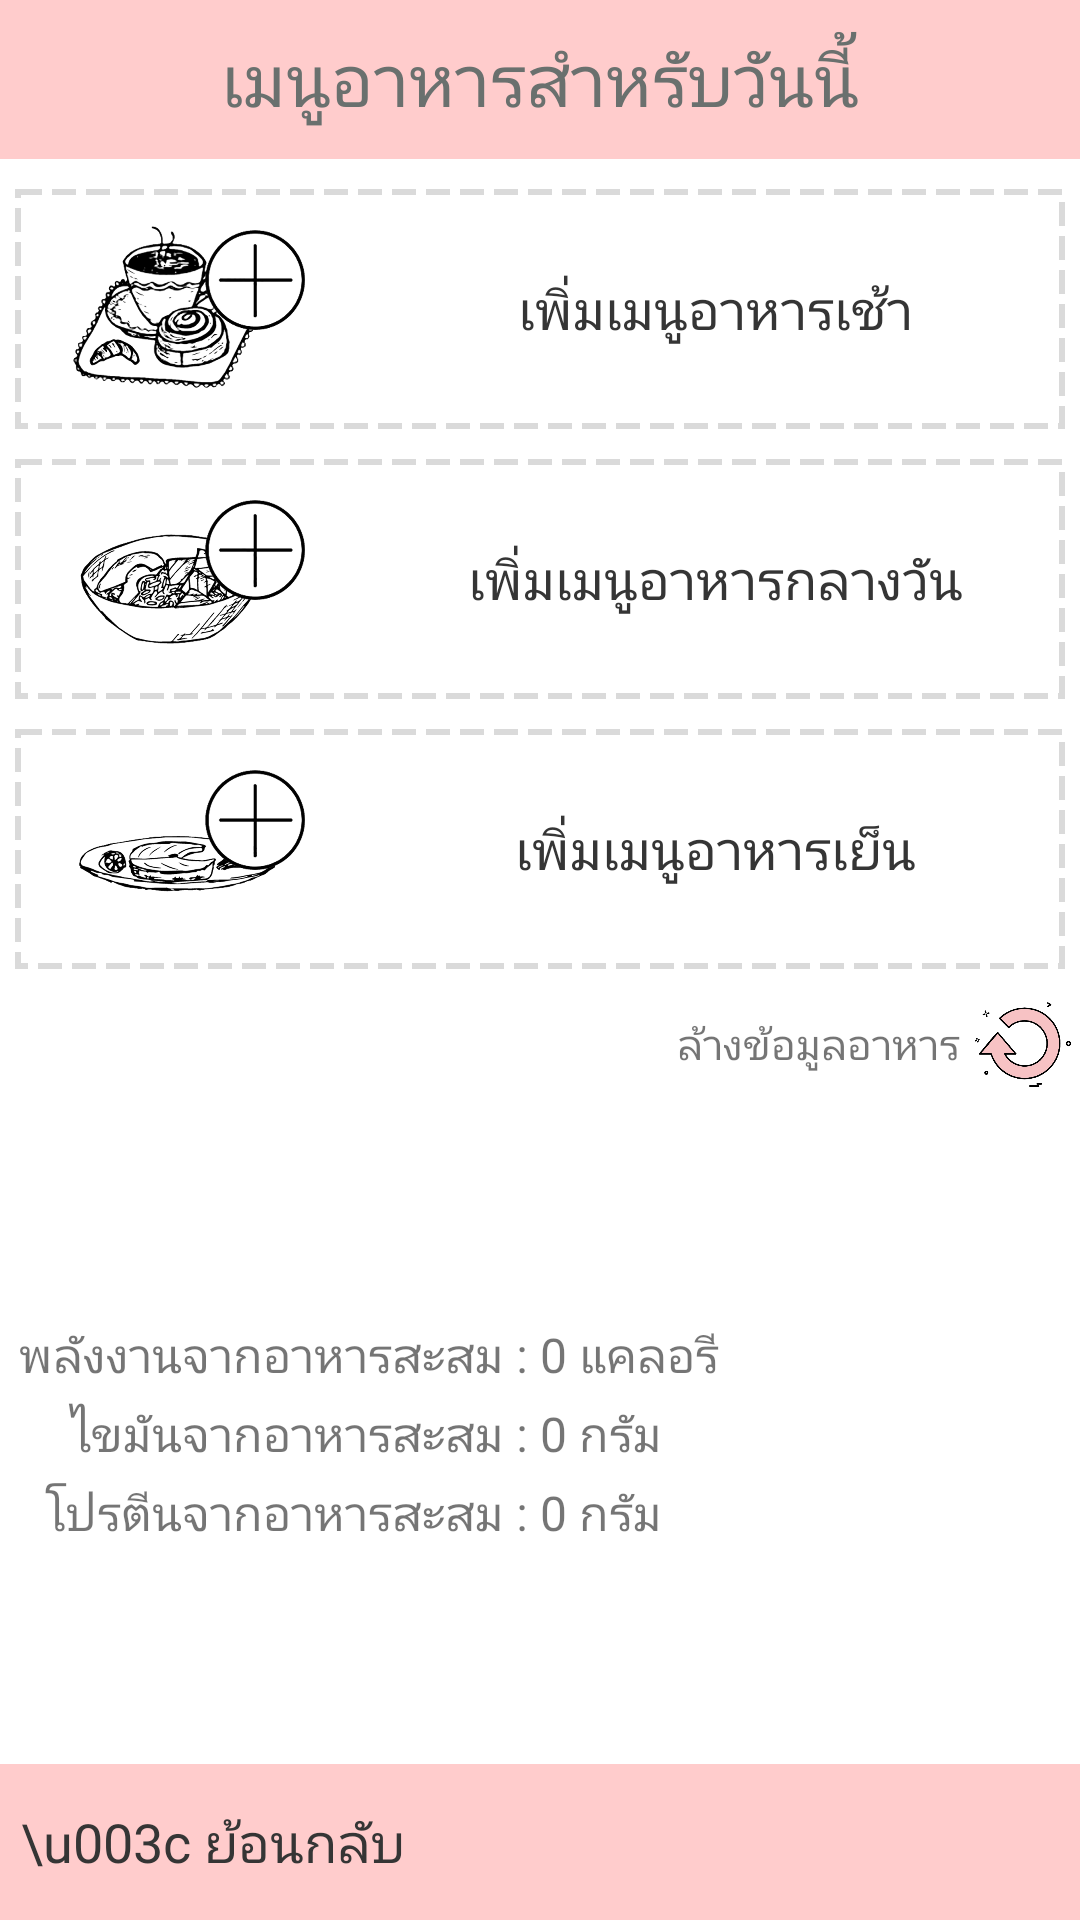

Locate icon controls on the screen. Image size 1080px×1920px, boxes as [x1=x1, y1=y1, x2=x2, y2=y2].
addbreakfast: [x1=15, y1=189, x2=365, y2=429]
adddinner: [x1=15, y1=729, x2=365, y2=969]
addlunch: [x1=15, y1=459, x2=365, y2=699]
reset: [x1=975, y1=1002, x2=1071, y2=1087]
